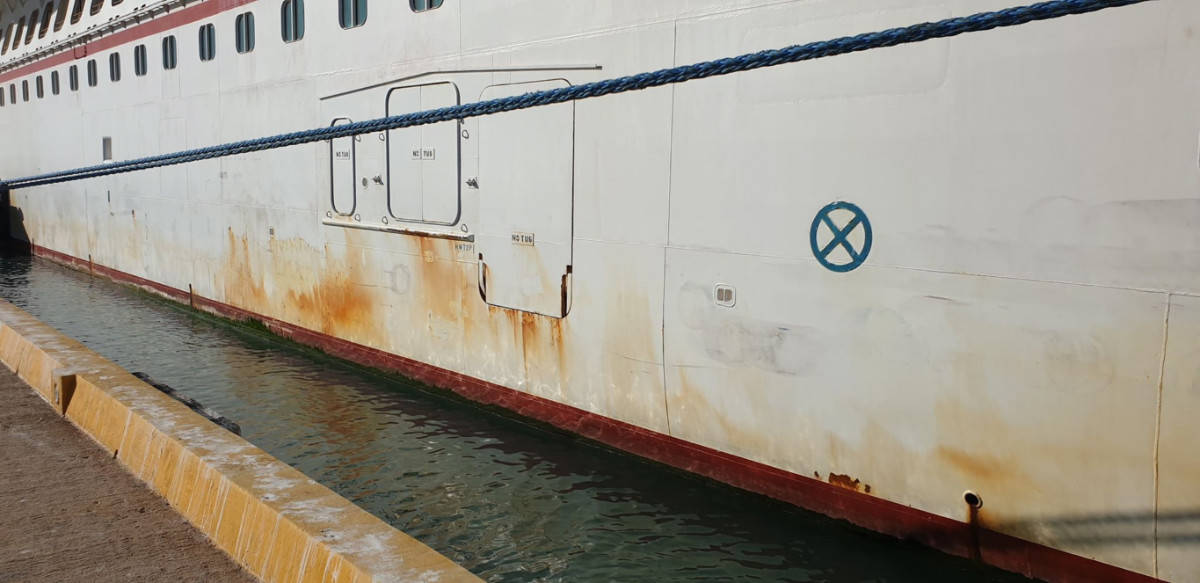rust: (400, 236, 472, 324), (291, 249, 366, 333), (929, 438, 1026, 497), (205, 226, 270, 313), (494, 307, 571, 372), (817, 466, 883, 484)
